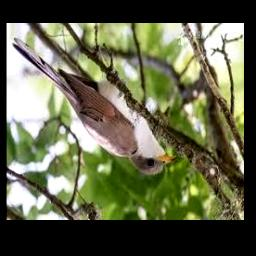Cuckoo: (12, 38, 179, 174)
